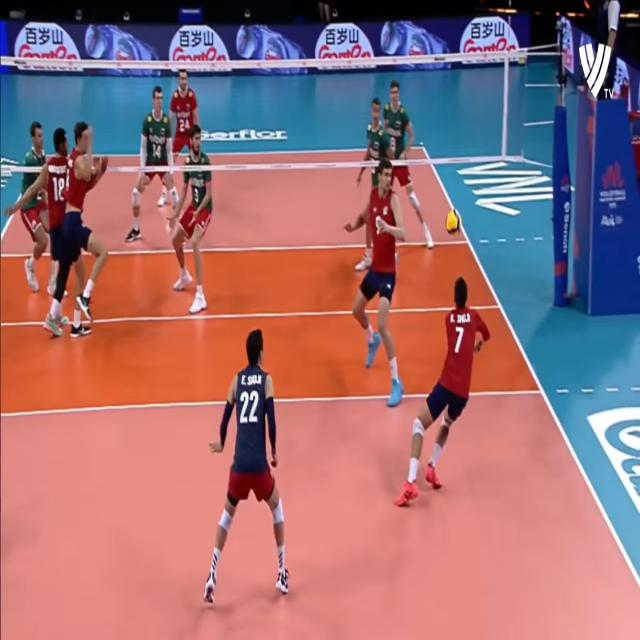player: (202, 323, 292, 610), (400, 264, 490, 510), (344, 167, 412, 414), (65, 122, 115, 325), (132, 80, 188, 252), (382, 79, 435, 248), (176, 119, 219, 309), (39, 129, 79, 323), (19, 119, 50, 285), (359, 97, 390, 183), (169, 67, 204, 143)
